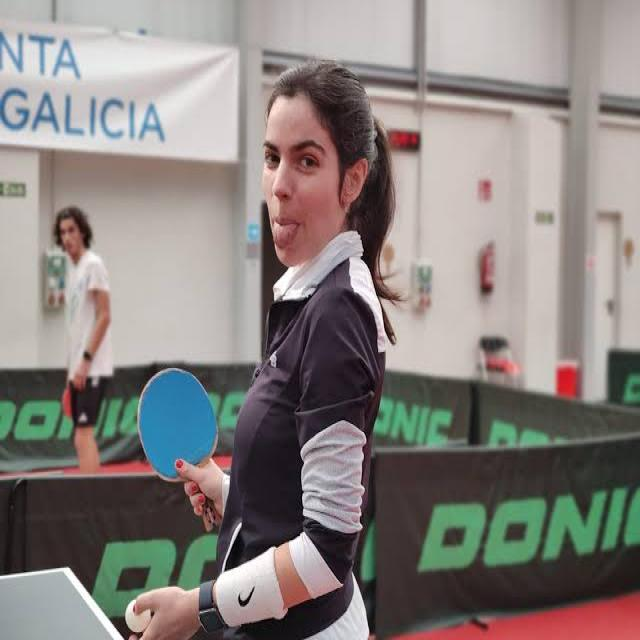TT Racket: (105, 343, 233, 502)
